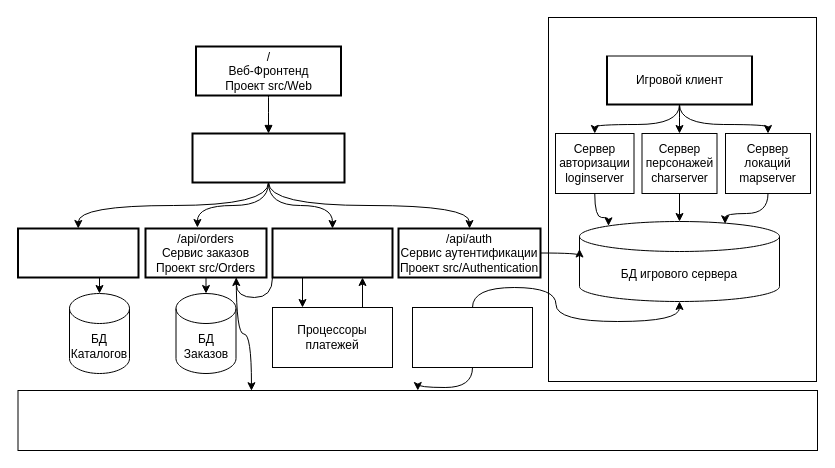
Image size: 835x468. Some labels were removed from this diagram. The shapes that lost their labels are listed below. From the top down, each one's centre as x and y in pixels, then its label:
At pixel 684 37: "Legacy Infrastructure".
At pixel 268 157: "API Gateway src/Web/nginx.conf".
At pixel 77 252: "/api/catalogs Сервис каталогов Проект src/Catalogs".
At pixel 332 252: "/api/payment Сервис платежей Проект src/Payment".
At pixel 472 337: "Воркер обновления инвентаря".
At pixel 417 420: "Шина RabbitMq".
